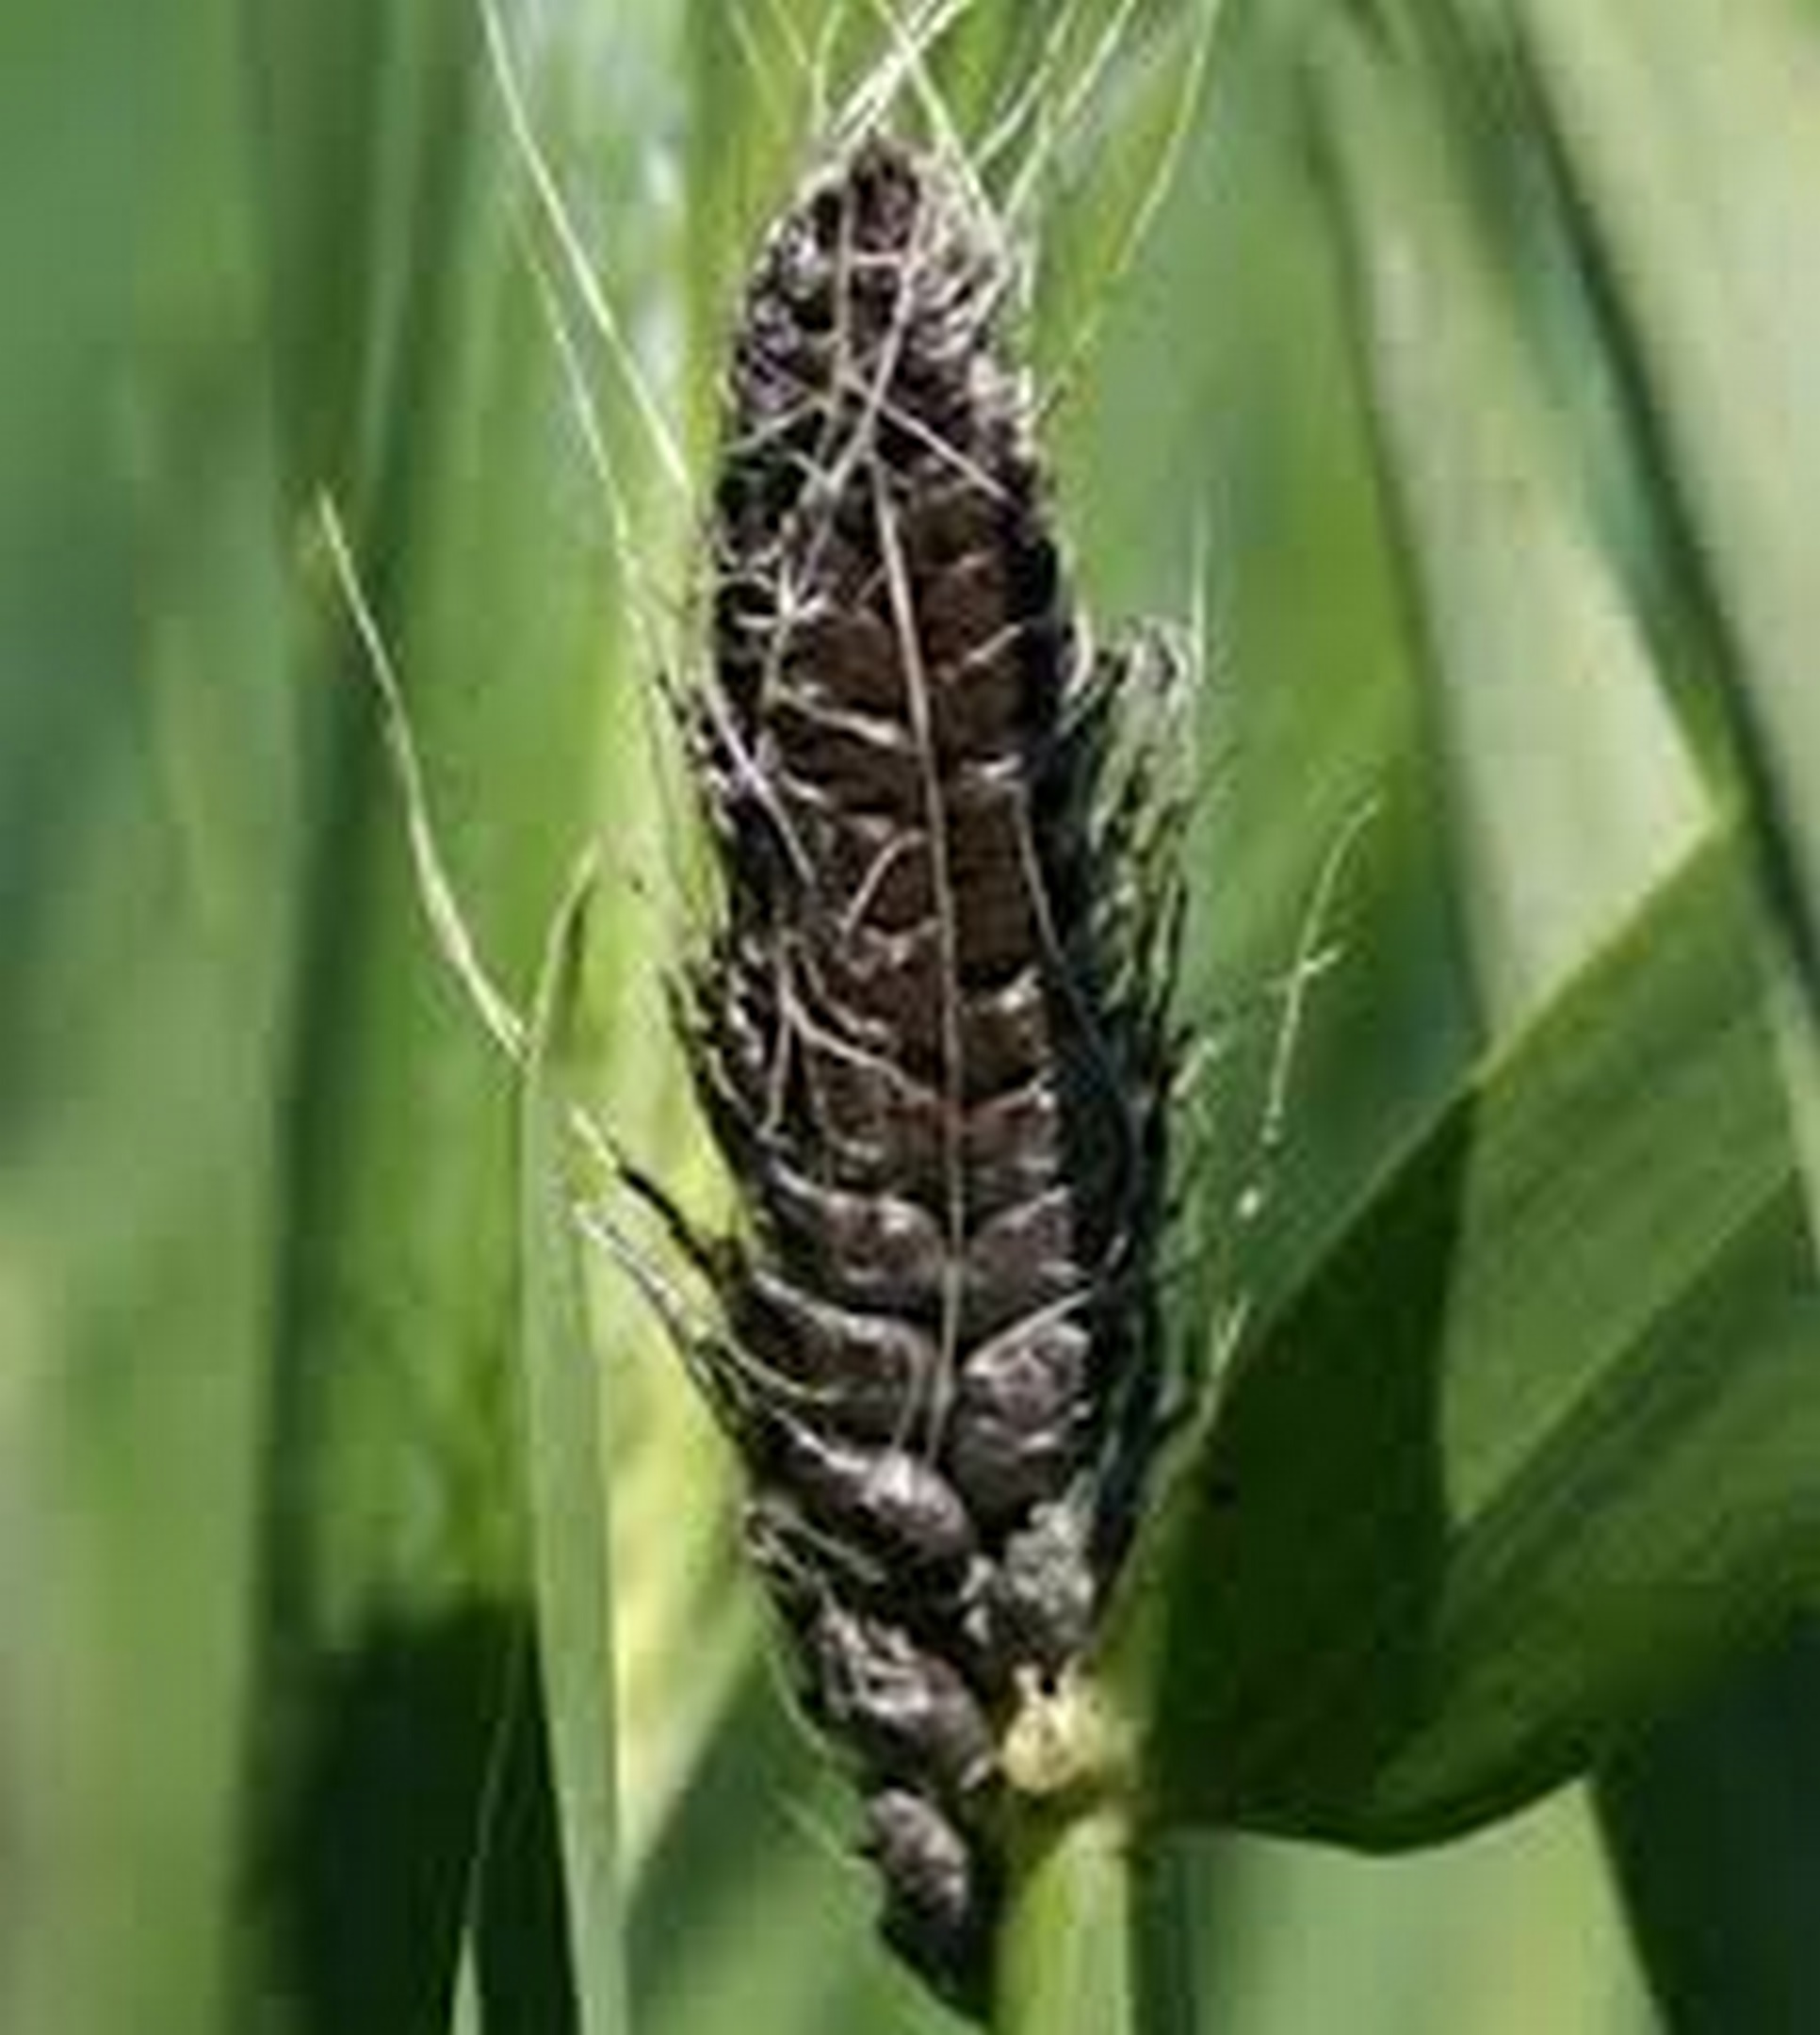Wheat Loose Smut: (516, 183, 1260, 1710)
